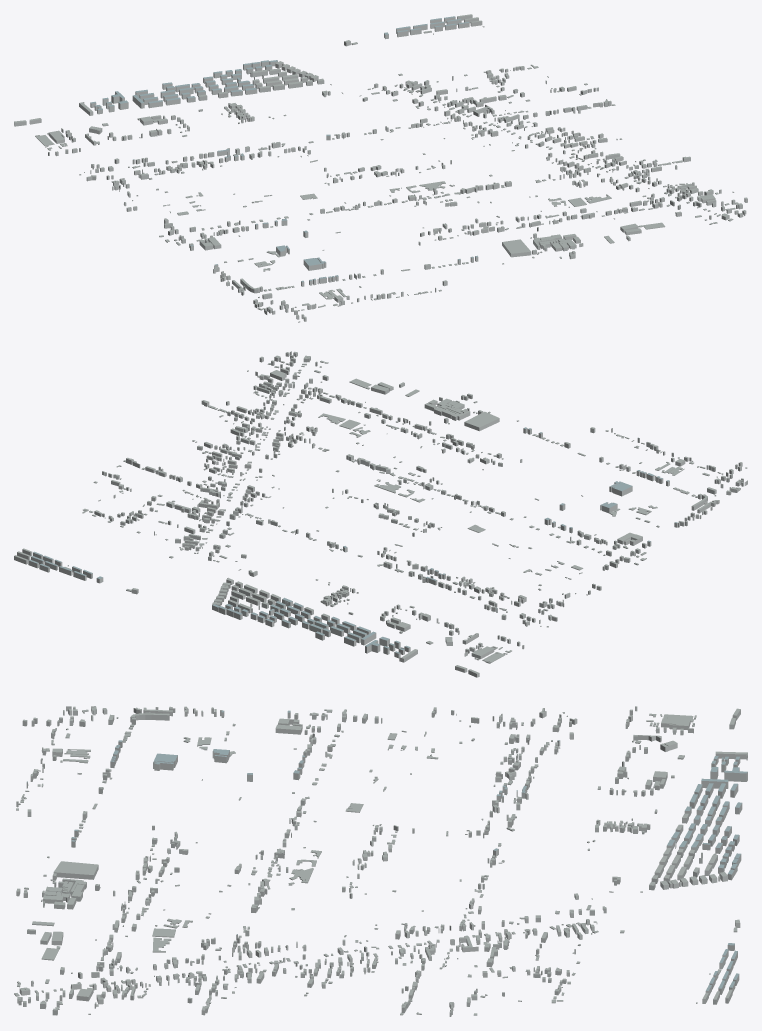
The model's file is far.glb.
The picture shows the model from 3 angles, top to bottom: view 1: azimuth 30°, elevation 25°; view 2: azimuth 150°, elevation 25°; view 3: azimuth 270°, elevation 25°; orthographic projection. The views are drawn at different scales.
Size of the model in its own units: 2106 by 27.9 by 2131.
